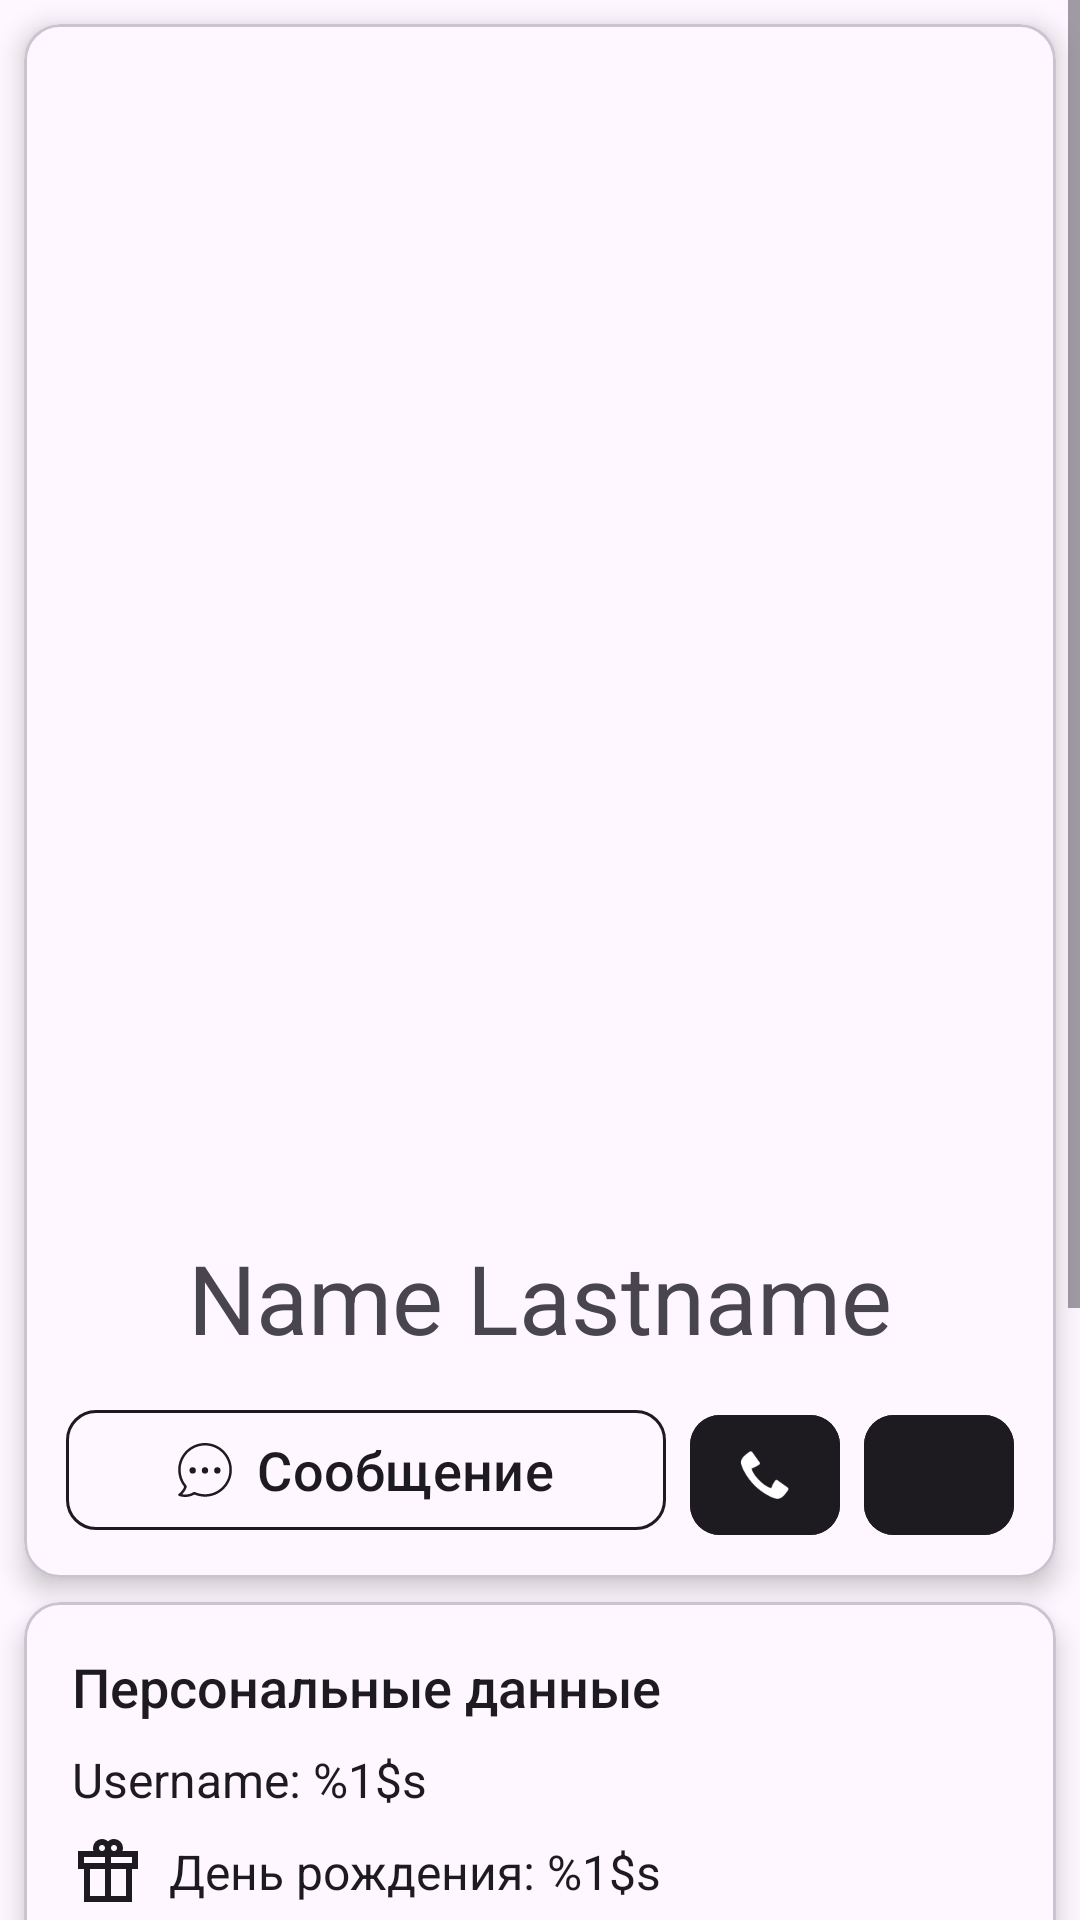

Icons on this 1080 × 1920 Android screen, each with its box as bbox(x1, y1, x2, y2):
phone call: bbox(690, 1415, 840, 1535)
